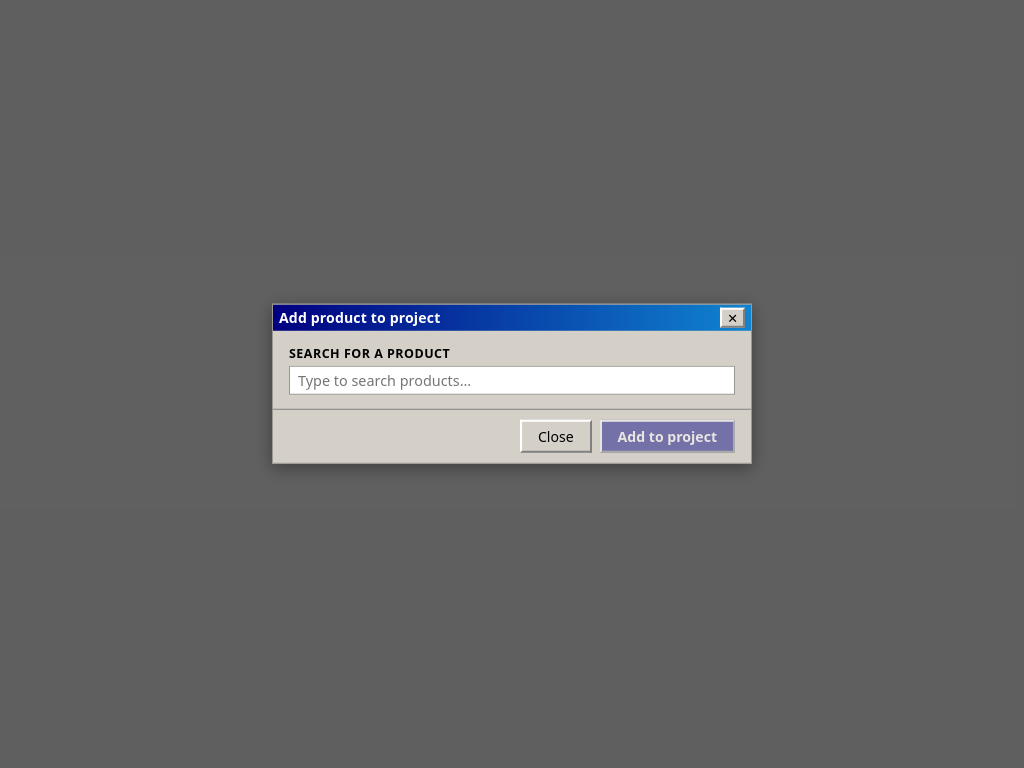
Test case: AddToProjectModal — project-first mode › shows "No products found" when search returns empty
This screenshot has width=1024, height=768.
Step 1. Type "xyz" into the field with placeholder "Type to search products…" → {"x": 512, "y": 381}, box [289,366,735,395]
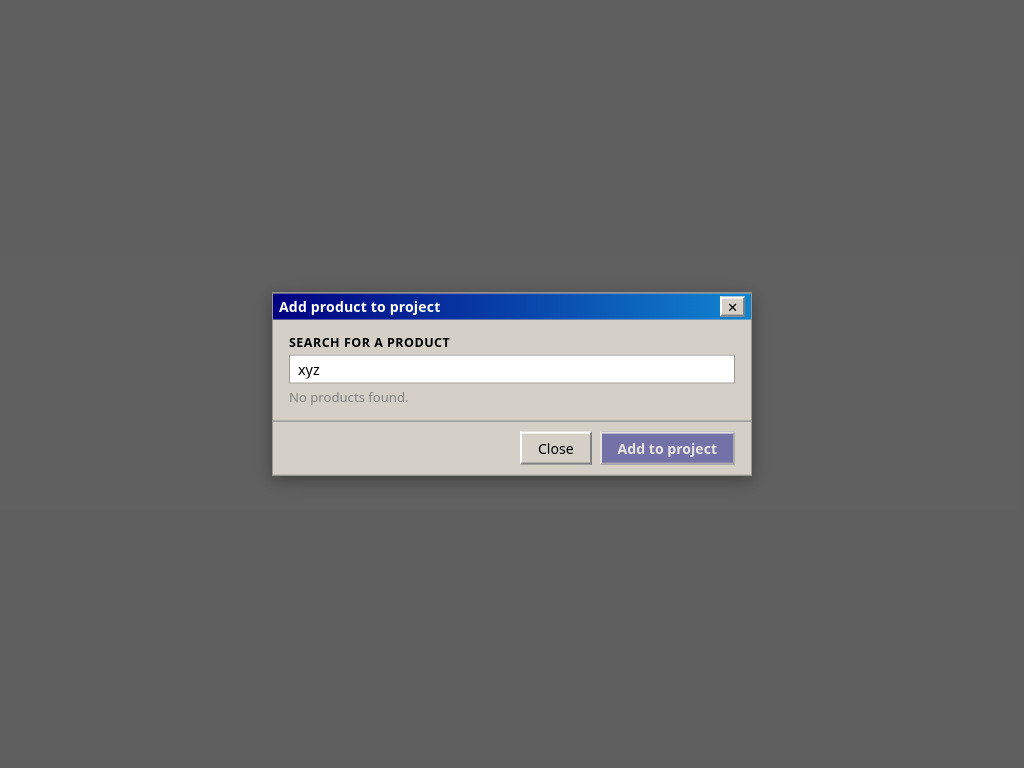
Result: the text "No products found." is shown at [289,388,408,406]
